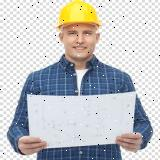Helmet: (55, 0, 102, 29)
